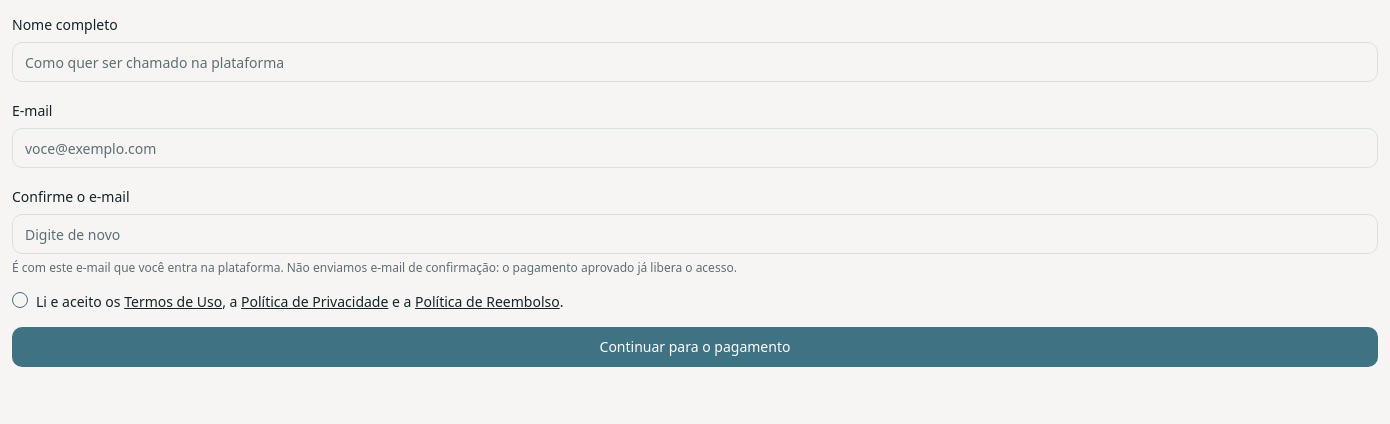
Test: AccountStep › blocks a mismatching e-mail and explains why it matters
Type "Ana Souza" into the field labelled "Nome completo".
click(695, 62); type("Ana Souza")  # box [12,42,1378,82]
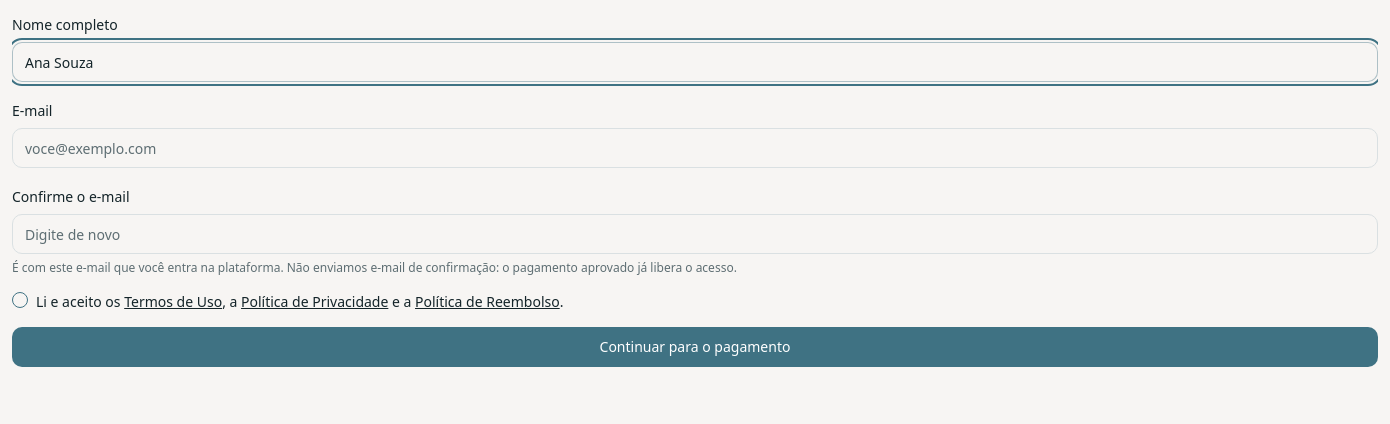
Type "ana@example.com" into the field labelled "E-mail".
click(695, 148); type("ana@example.com")  # box [12,128,1378,168]
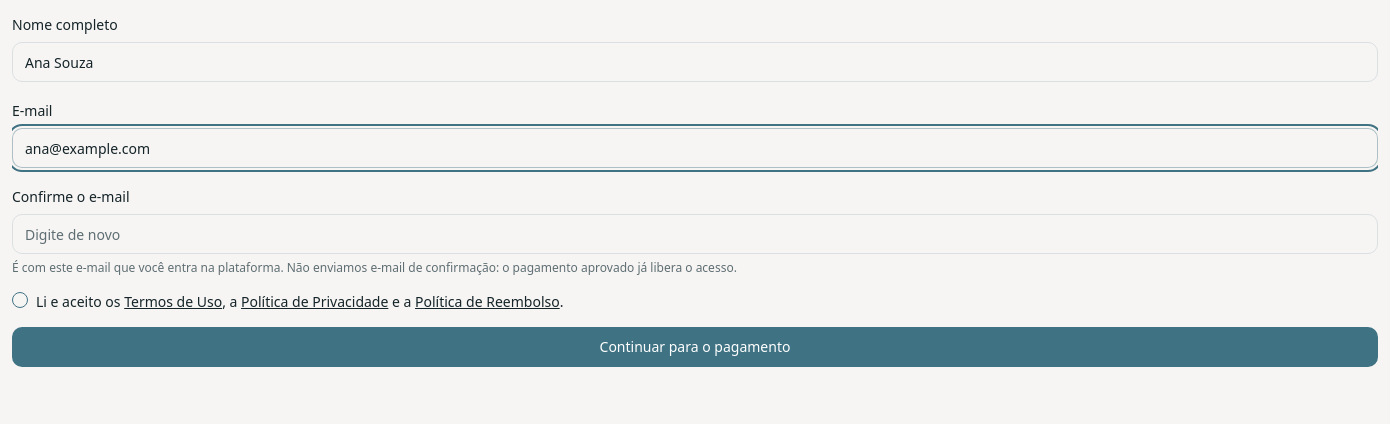
Type "ana@exemple.com" into the field labelled "Confirme o e-mail".
click(695, 234); type("ana@exemple.com")  # box [12,214,1378,254]
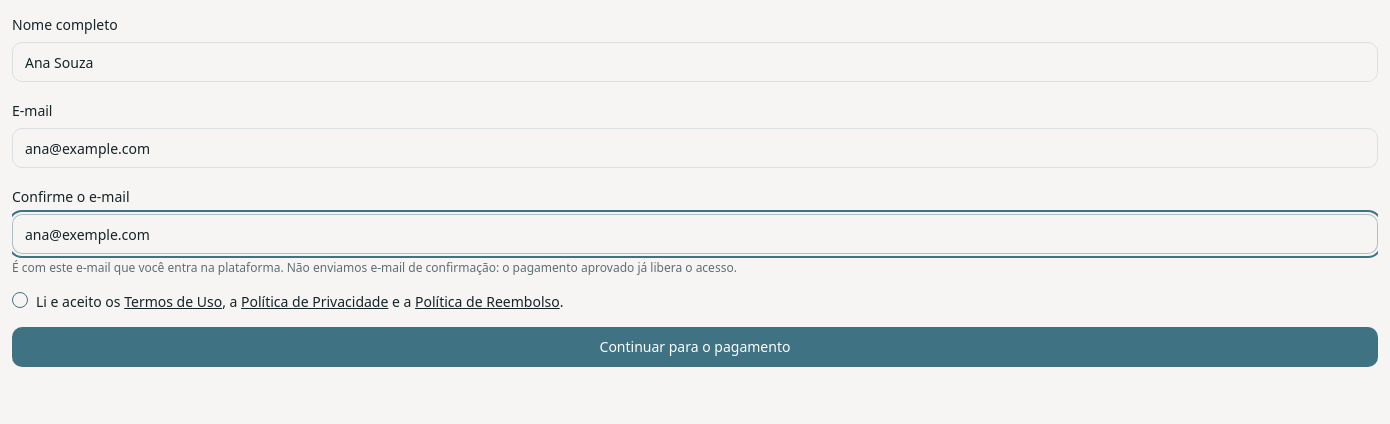
Click the checkbox.
click(20, 300)  # box [12,292,28,308]
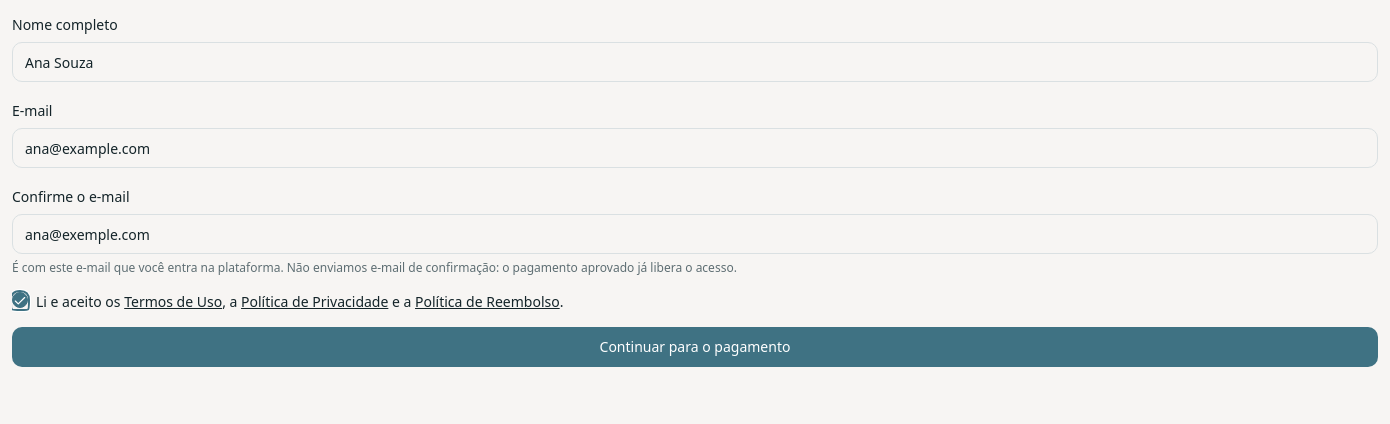
Click the button "Continuar para o pagamento".
click(695, 347)  # box [12,327,1378,367]
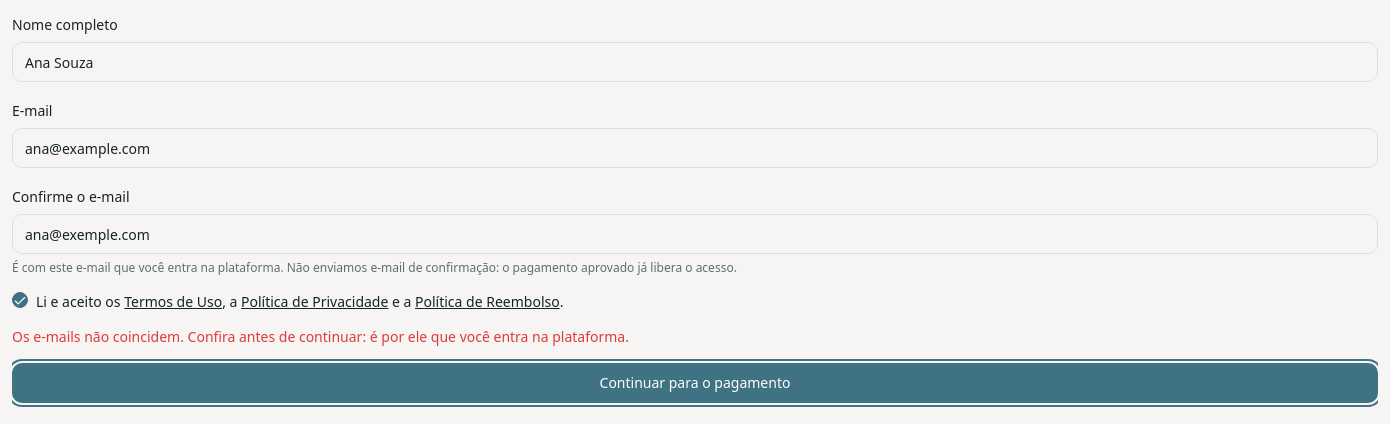
Check: the message shows "não coincidem", box [12,327,629,346]
